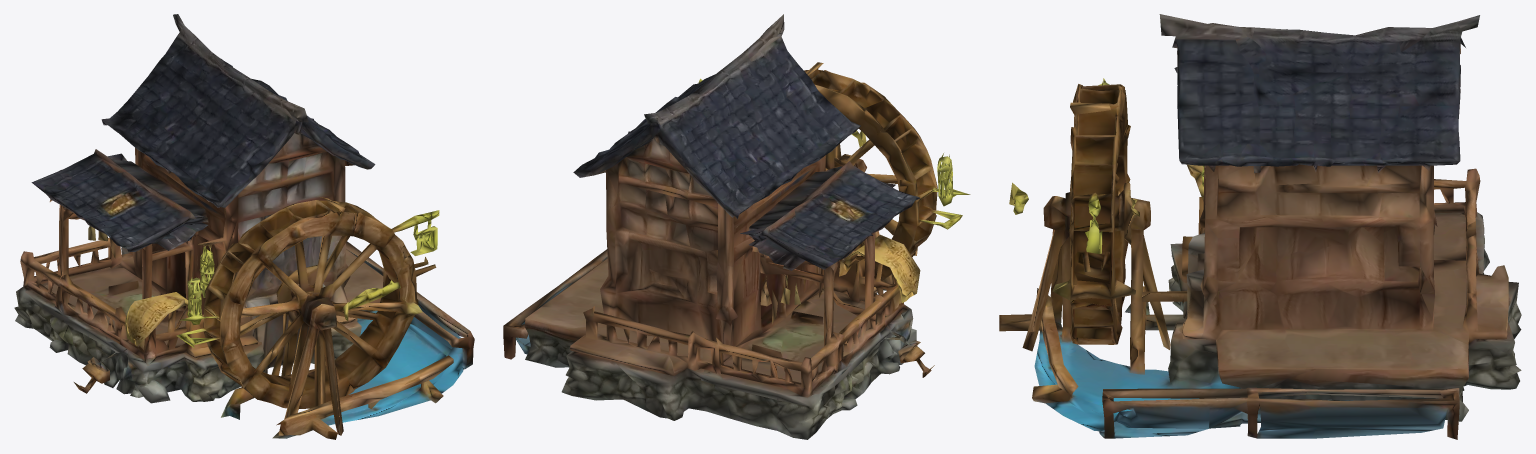
File: h_mill.glb
3 renders of one model, left to right at view 1: azimuth 30°, elevation 25°; view 2: azimuth 150°, elevation 25°; view 3: azimuth 270°, elevation 25°, orthographic. The views are drawn at different scales.
Parts seen in each view (by area): view 1: tripo_node_80d55028-8593-47f4-8f45-d3e8b8fd6c8a; view 2: tripo_node_80d55028-8593-47f4-8f45-d3e8b8fd6c8a; view 3: tripo_node_80d55028-8593-47f4-8f45-d3e8b8fd6c8a.
Part boxes in pixels (x1=…): tripo_node_80d55028-8593-47f4-8f45-d3e8b8fd6c8a: x1=14, y1=14, x2=474, y2=439; tripo_node_80d55028-8593-47f4-8f45-d3e8b8fd6c8a: x1=503, y1=14, x2=970, y2=439; tripo_node_80d55028-8593-47f4-8f45-d3e8b8fd6c8a: x1=999, y1=14, x2=1521, y2=439.
Bounding box in the file's own units: 0.8975 × 0.7309 × 0.9978.
Materials: 1 (1 with a texture image).
